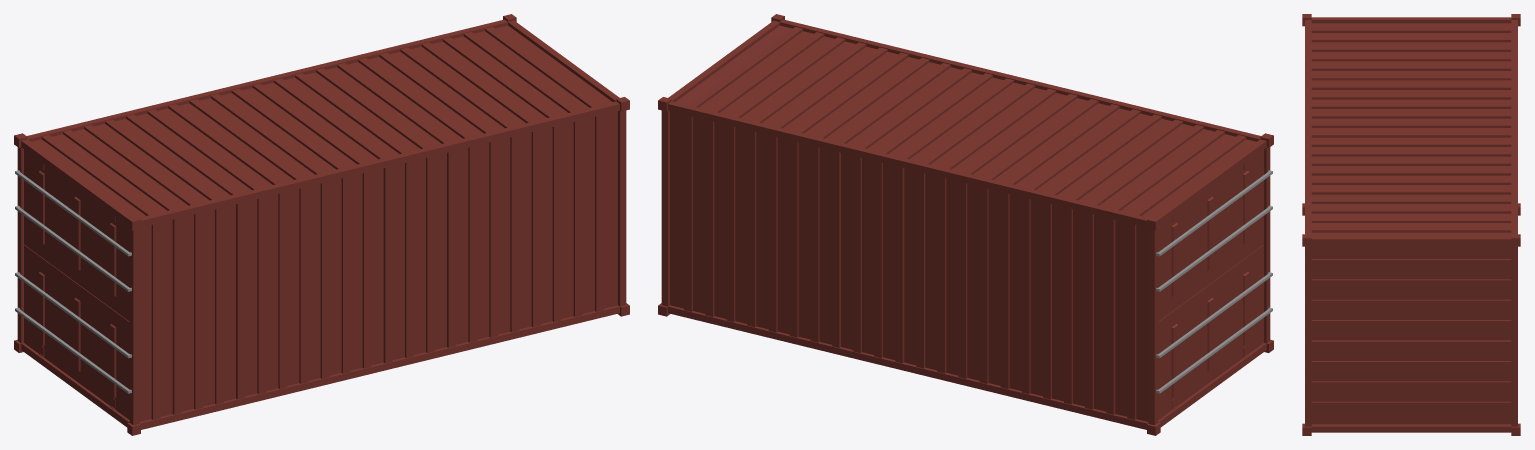
Rendered from Container_Red.fbx.
The picture shows the model from 3 angles, left to right: view 1: azimuth 30°, elevation 25°; view 2: azimuth 150°, elevation 25°; view 3: azimuth 270°, elevation 25°; orthographic projection. The views are drawn at different scales.
Visible parts, largest first — view 1: Container_Red; view 2: Container_Red; view 3: Container_Red.
Part boxes in pixels (x1=…): Container_Red: x1=14, y1=14, x2=629, y2=435; Container_Red: x1=658, y1=14, x2=1273, y2=435; Container_Red: x1=1302, y1=14, x2=1520, y2=435.
Bounding box in the file's own units: 6.21 × 2.54 × 2.54.
